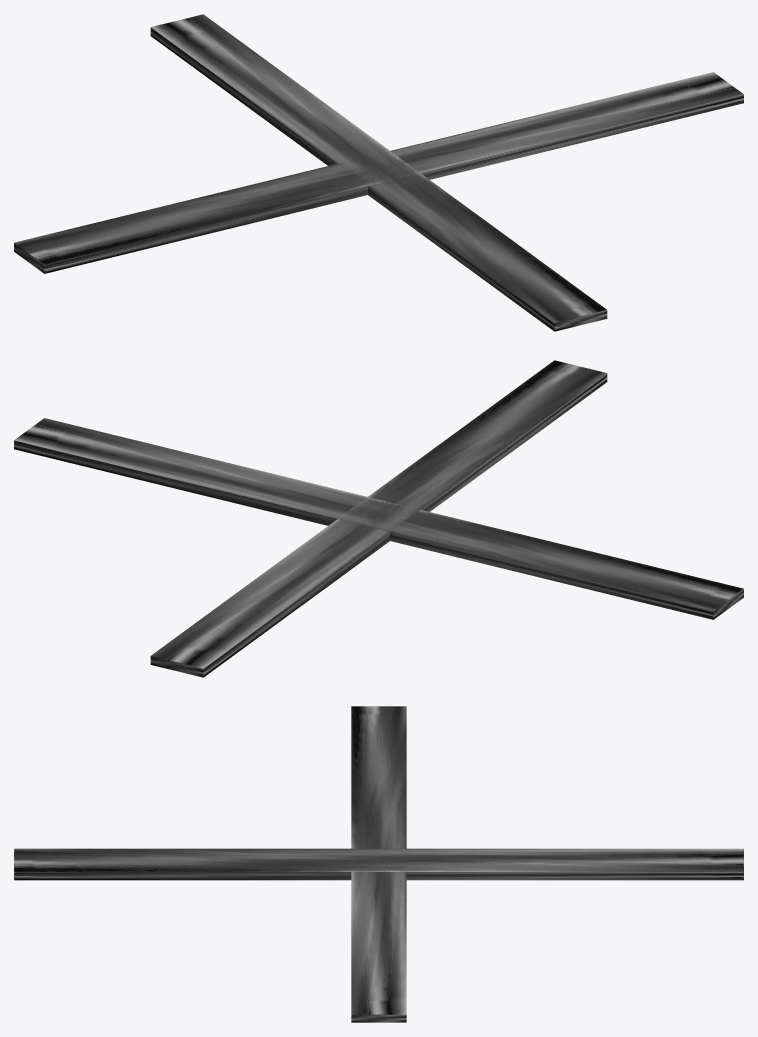
Rendered from testProp.obj.
The picture shows the model from 3 angles, top to bottom: view 1: azimuth 30°, elevation 25°; view 2: azimuth 150°, elevation 25°; view 3: azimuth 270°, elevation 25°; orthographic projection. The views are drawn at different scales.
Parts seen in each view (by area): view 1: Box001, Box002; view 2: Box001, Box002; view 3: Box002, Box001.
Part boxes in pixels (x1,y1,x2,y2): Box001: (14, 72, 743, 273); Box002: (150, 14, 607, 331); Box001: (14, 418, 743, 619); Box002: (150, 360, 607, 677); Box002: (14, 848, 743, 880); Box001: (351, 706, 406, 1022).
Size of the model in its own units: 240 by 2.94 by 240.
Materials: 1 (1 with a texture image).
